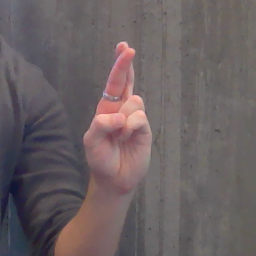R: (80, 39, 158, 187)
